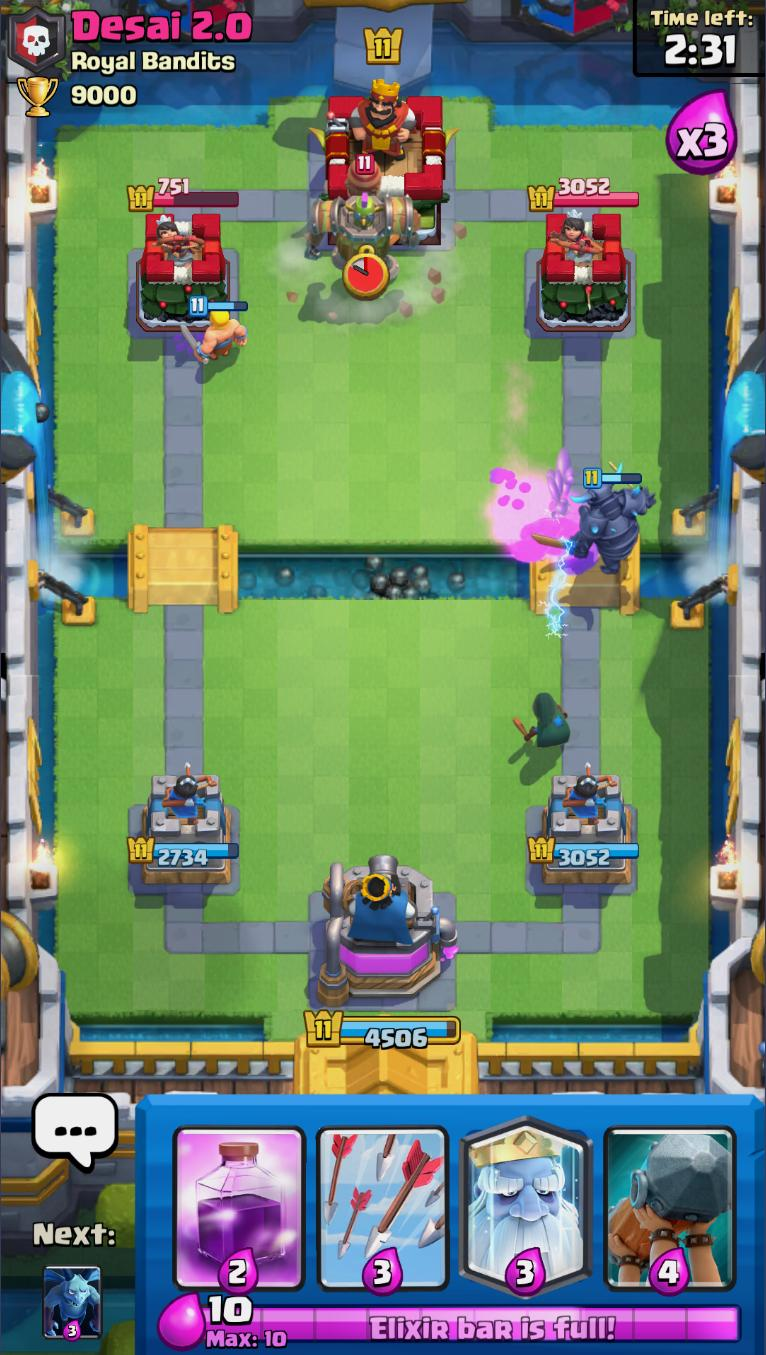ArrowDeck: (311, 1098, 454, 1300)
Bandit: (513, 692, 572, 750)
BattleRamDeck: (601, 1097, 740, 1294)
Elixir: (202, 1297, 745, 1350)
EnemyTower: (524, 212, 634, 333), (125, 211, 232, 333)
GoblinMachine: (306, 156, 422, 283)
KingTower: (308, 82, 462, 250)
MinionsNext: (42, 1265, 104, 1342)
MyBarbarian: (180, 294, 249, 364)
MyKingHP: (304, 1007, 462, 1051)
MyKingTower: (317, 859, 459, 1009)
MyPekka: (529, 460, 658, 575)
MyPrincessTower: (128, 771, 239, 896), (529, 769, 640, 886)
MyPrincessTowerHP: (127, 835, 240, 867), (528, 837, 640, 869)
PrincessTower: (150, 215, 205, 268), (550, 216, 607, 267)
RageDeck: (169, 1094, 313, 1295)
RoyaleGhostDeck: (454, 1096, 600, 1297)
TowerPrincessHP: (529, 176, 641, 210), (129, 178, 241, 211)
